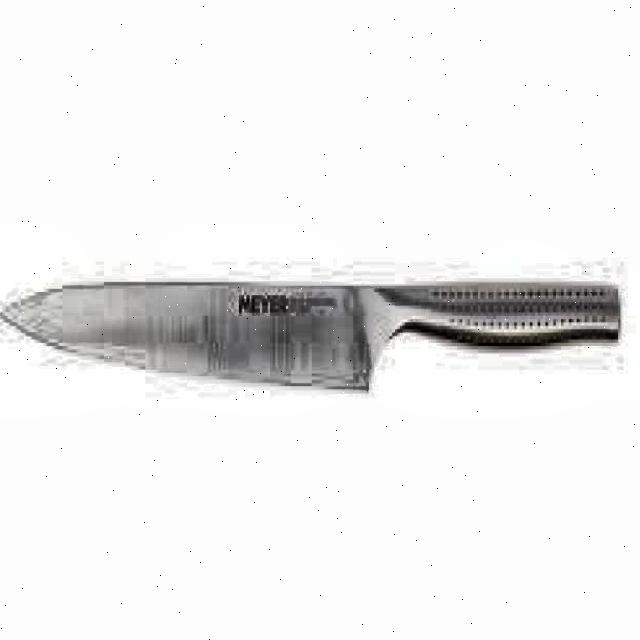knife: (2, 272, 623, 406)
